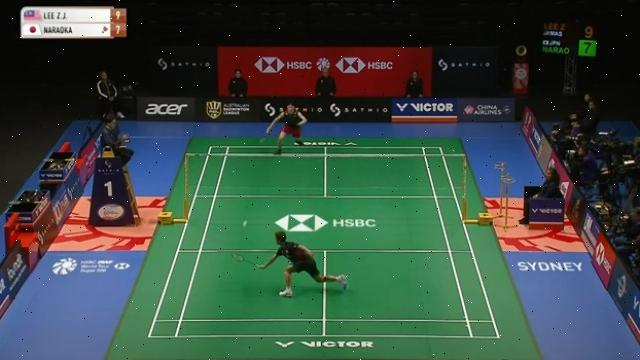Shuttlecock: (240, 218, 250, 228)
